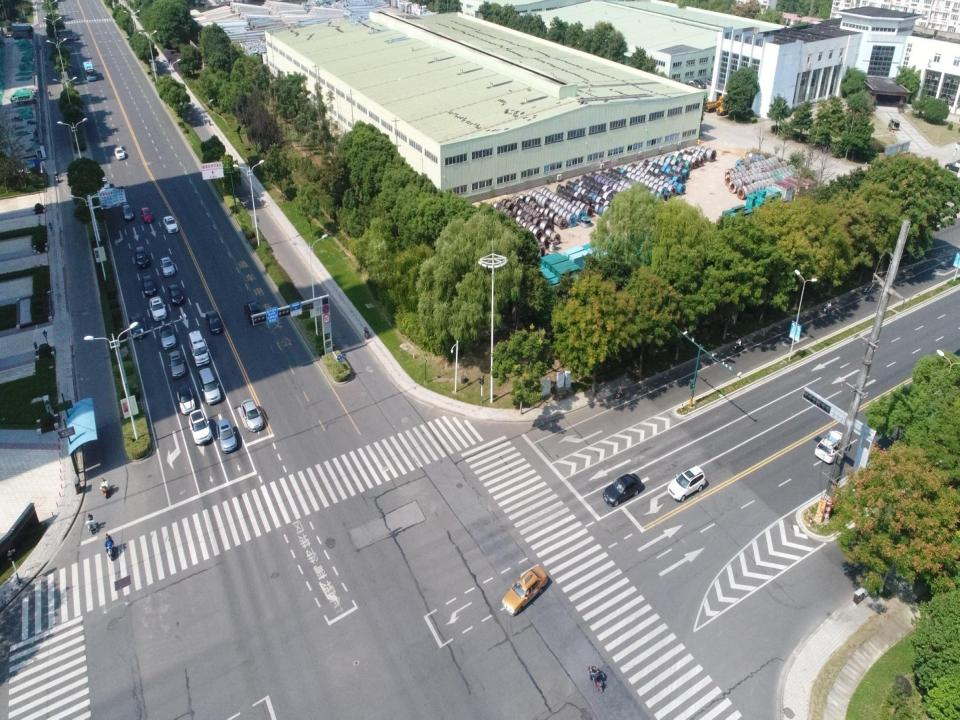bus: (83, 60, 97, 82)
car: (500, 558, 549, 616), (601, 468, 646, 506), (666, 464, 706, 500), (813, 426, 850, 464), (239, 397, 266, 433), (186, 409, 212, 443), (216, 418, 236, 456), (176, 385, 195, 416), (129, 312, 147, 343), (246, 300, 264, 326), (167, 351, 185, 376), (205, 309, 222, 335), (168, 278, 185, 304), (148, 297, 168, 319), (134, 243, 150, 269), (160, 321, 174, 350), (140, 276, 155, 298), (161, 256, 175, 276), (163, 215, 179, 232), (140, 205, 153, 223), (122, 204, 134, 220), (114, 147, 126, 160), (98, 177, 109, 190)
truck: (188, 329, 209, 368)
van: (197, 368, 220, 406), (888, 114, 901, 130)
